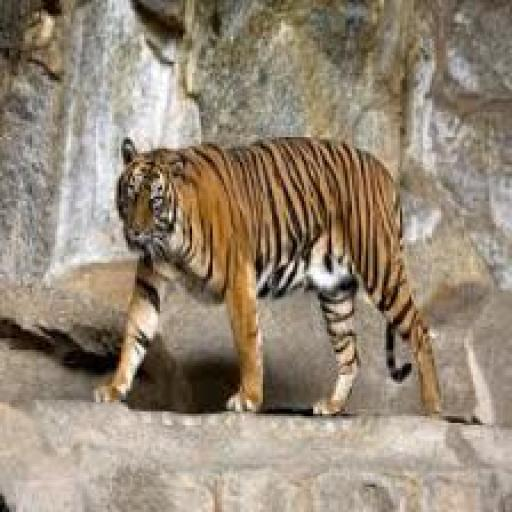Tiger: (94, 135, 448, 417)
